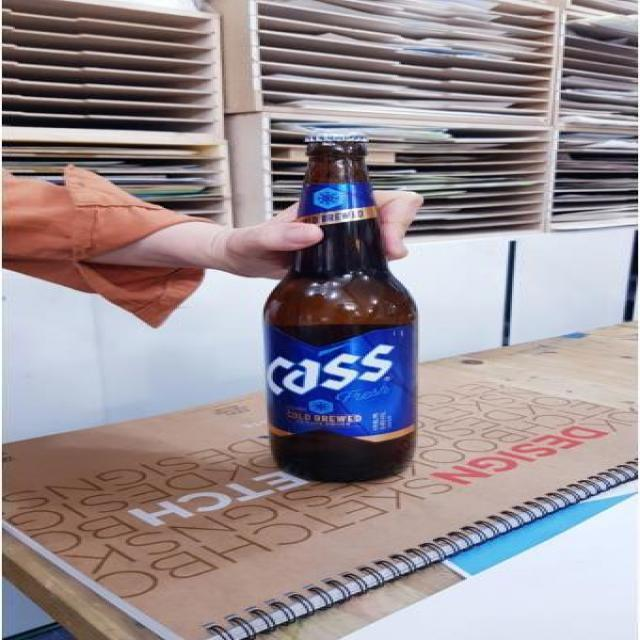beer-bottle: (260, 128, 438, 490)
